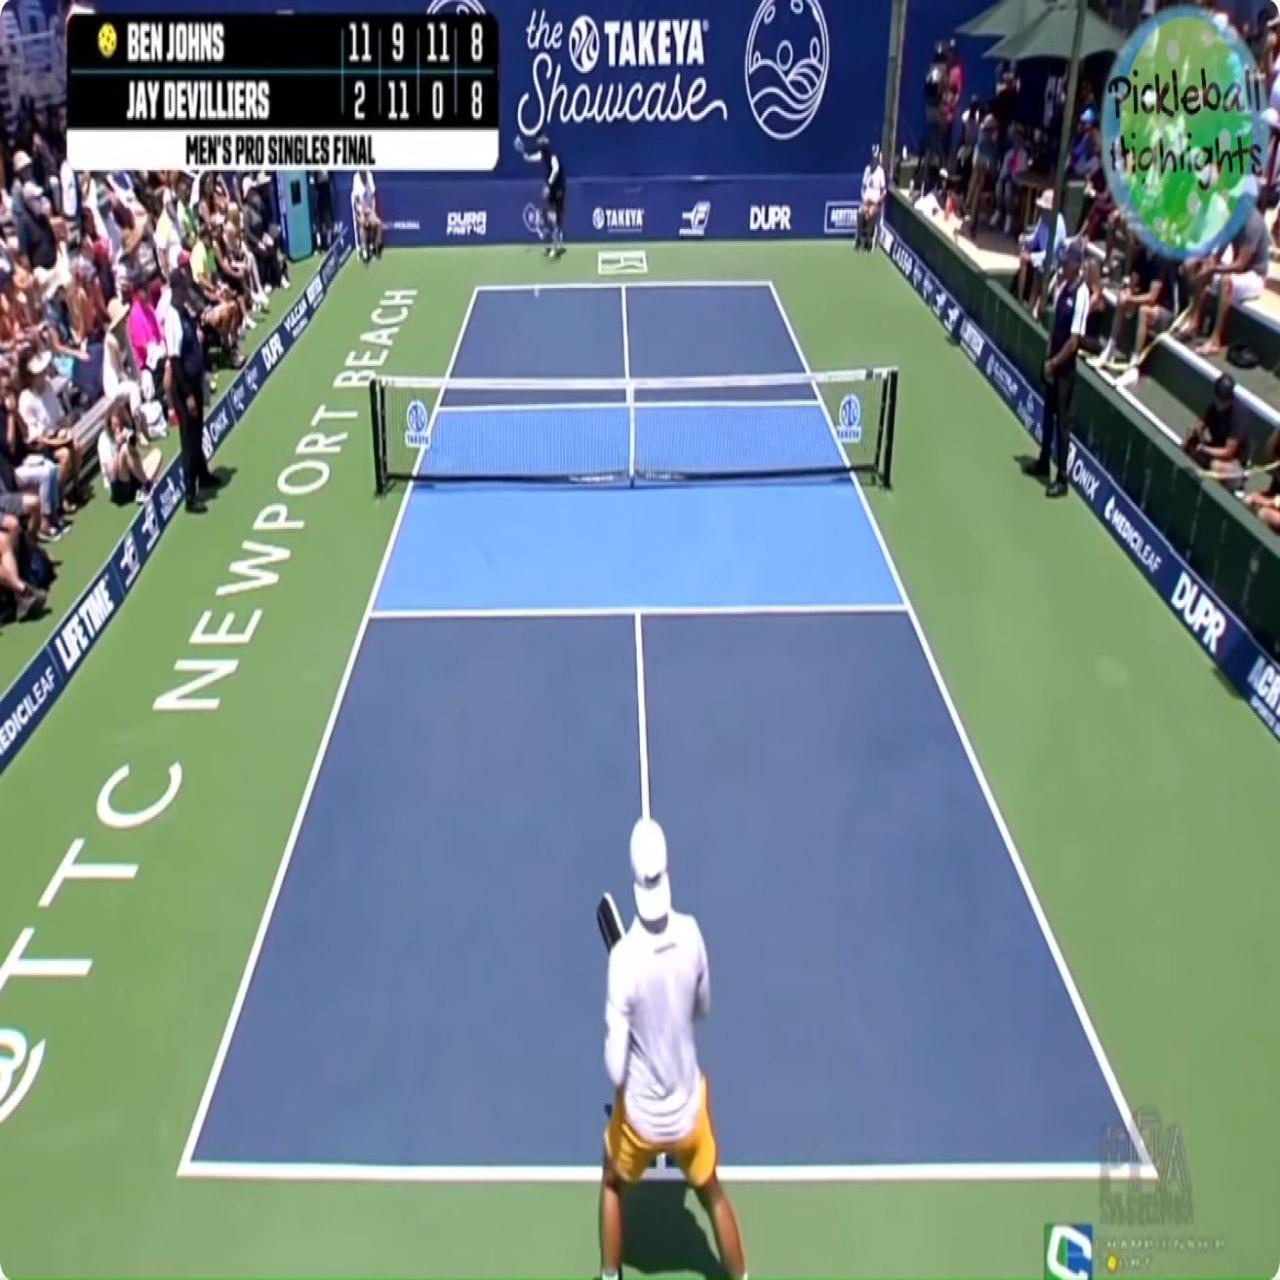pickleball: (533, 284, 540, 299)
